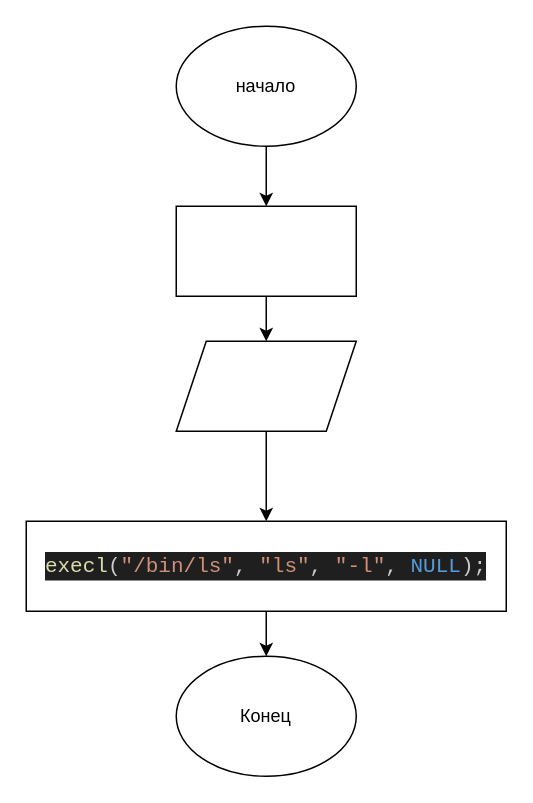
Image size: 533x803. Some labels were removed from this diagram. Here are the shapes that lost their labels. From the top down, the centre of each, then its label:
At (265,250): "int cur_pid = getpid()".
At (265,385): "cur_pid".
